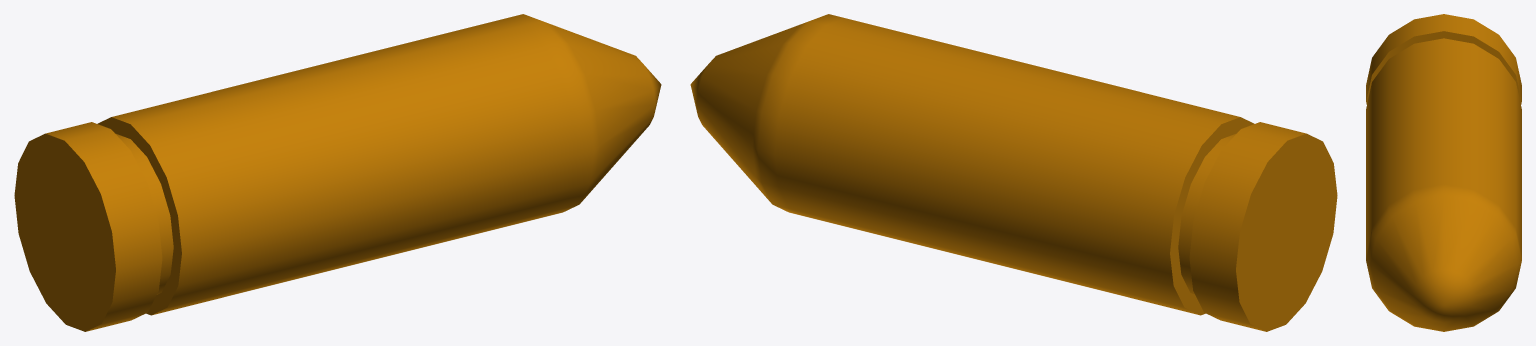
Rendered from projectile.fbx.
3 views of the same model, side by side, from view 1: azimuth 30°, elevation 25°; view 2: azimuth 150°, elevation 25°; view 3: azimuth 270°, elevation 25° (orthographic). The views are drawn at different scales.
Parts seen in each view (by area): view 1: projectile; view 2: projectile; view 3: projectile.
Boxes of the visible parts, box(x1,y1,x2,y2) form: projectile: box(14, 14, 661, 331); projectile: box(690, 14, 1337, 331); projectile: box(1366, 14, 1521, 331).
Size of the model in its own units: 12.53 by 3.76 by 3.7.
